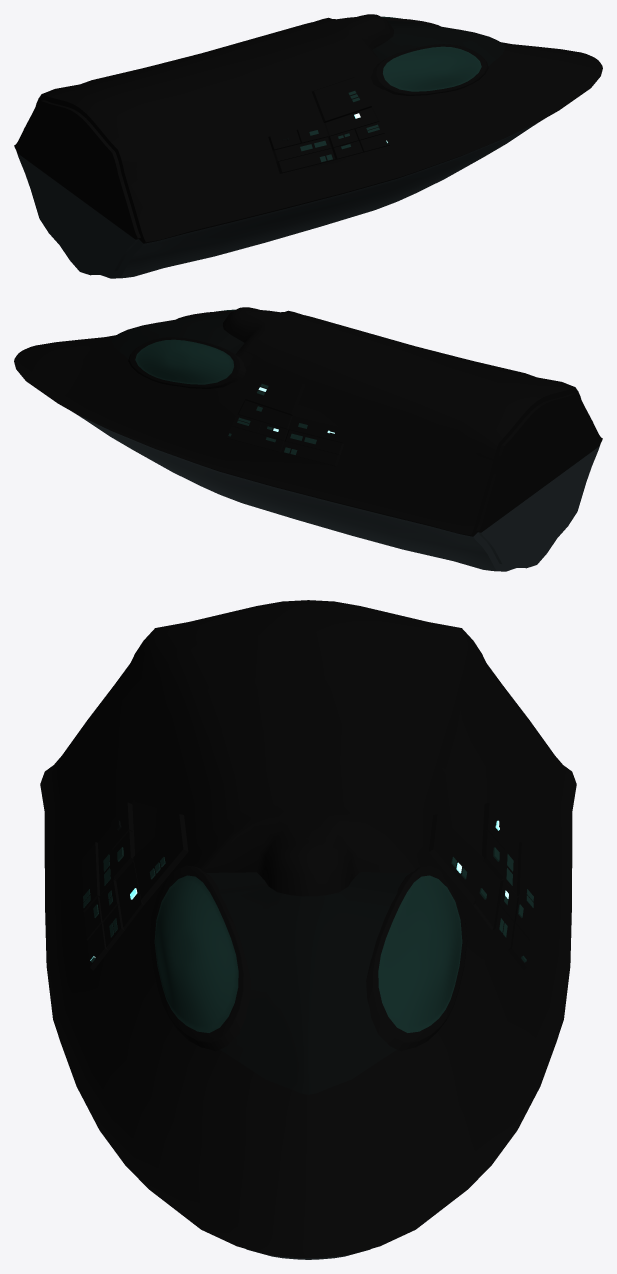
The model's file is SK_Ship_A_Nose.fbx.
3 views of the same model, one above another, from view 1: azimuth 30°, elevation 25°; view 2: azimuth 150°, elevation 25°; view 3: azimuth 270°, elevation 25° (orthographic). The views are drawn at different scales.
Visible parts, largest first — view 1: Ship_A_Nose; view 2: Ship_A_Nose; view 3: Ship_A_Nose.
Boxes of the visible parts, x1,y1,x2,y2 form: Ship_A_Nose: (14,14,602,278); Ship_A_Nose: (14,307,602,571); Ship_A_Nose: (40,600,576,1259).
Bounding box in the file's own units: 644 × 288 × 221.
